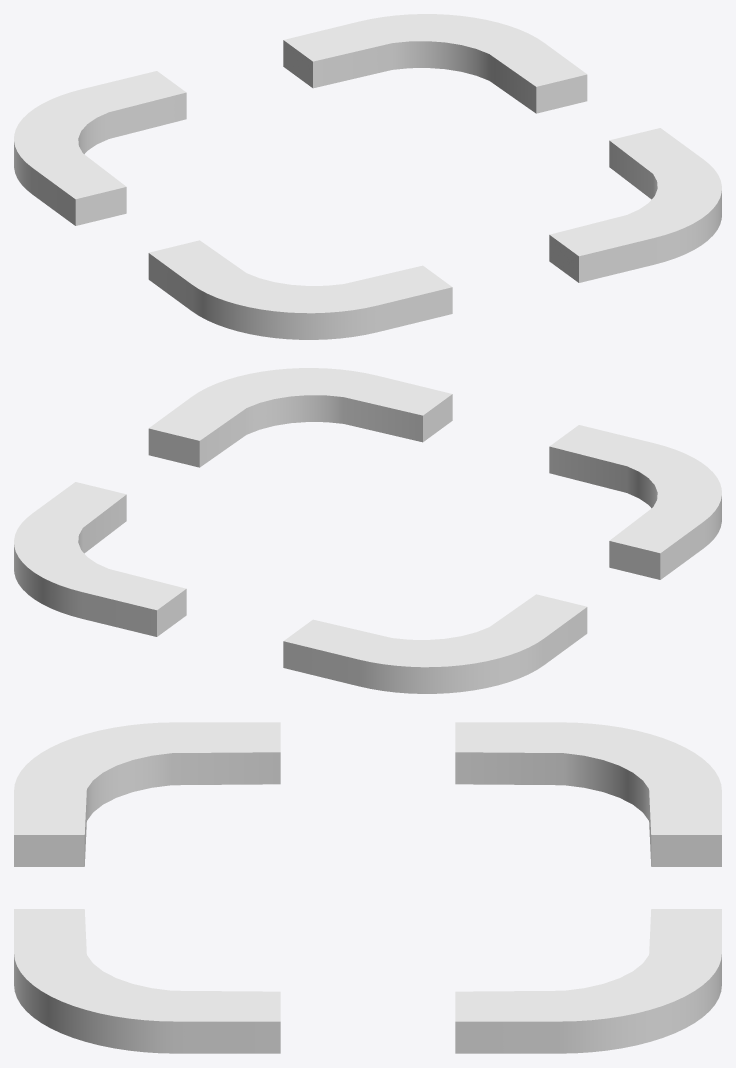
The model's file is PlayerLookIndicator.fbx.
The picture shows the model from 3 angles, top to bottom: view 1: azimuth 30°, elevation 25°; view 2: azimuth 150°, elevation 25°; view 3: azimuth 270°, elevation 25°; orthographic projection. The views are drawn at different scales.
Parts seen in each view (by area): view 1: PlayerLookIndicator; view 2: PlayerLookIndicator; view 3: PlayerLookIndicator.
Boxes of the visible parts, box(x1,y1,x2,y2) form: PlayerLookIndicator: box(14, 14, 721, 339); PlayerLookIndicator: box(14, 368, 721, 693); PlayerLookIndicator: box(14, 722, 721, 1053).
Bounding box in the file's own units: 100 × 5 × 100.
